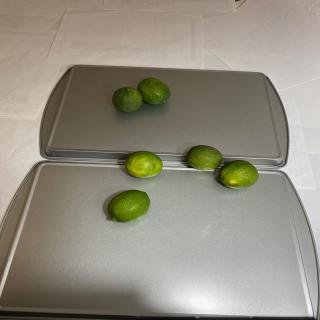Lemon: (108, 189, 150, 223), (218, 160, 259, 189), (125, 151, 163, 178), (137, 77, 171, 105), (186, 145, 223, 170), (111, 86, 142, 112)
